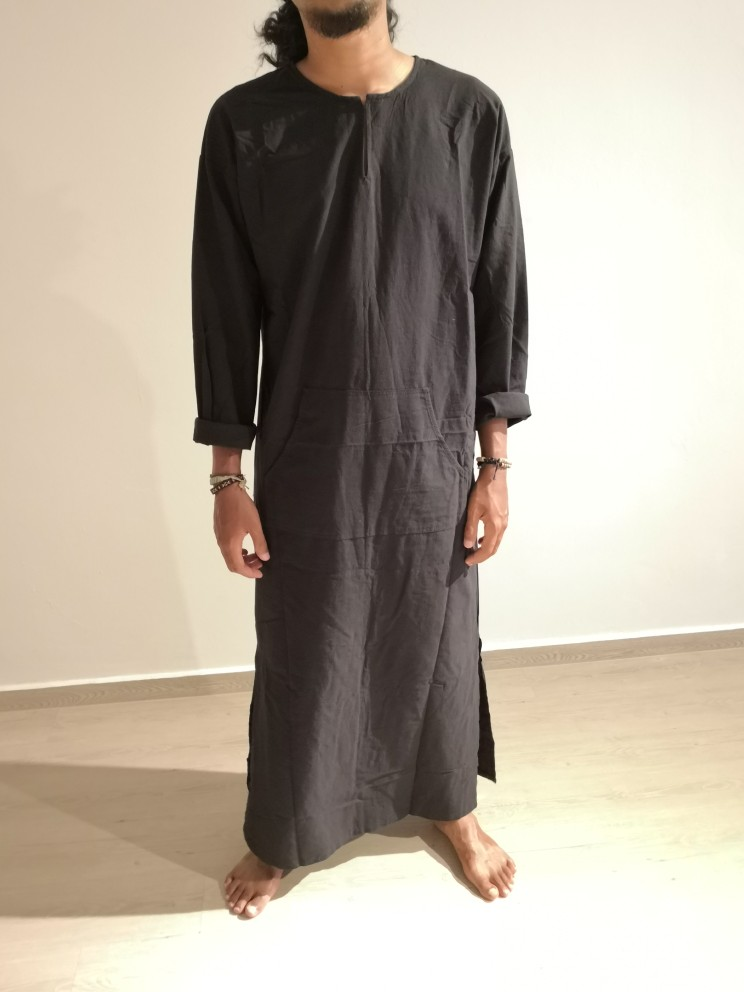shirts: (197, 53, 528, 450)
